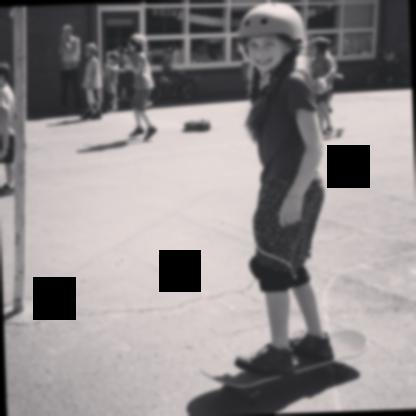backpack: (183, 120, 210, 131)
